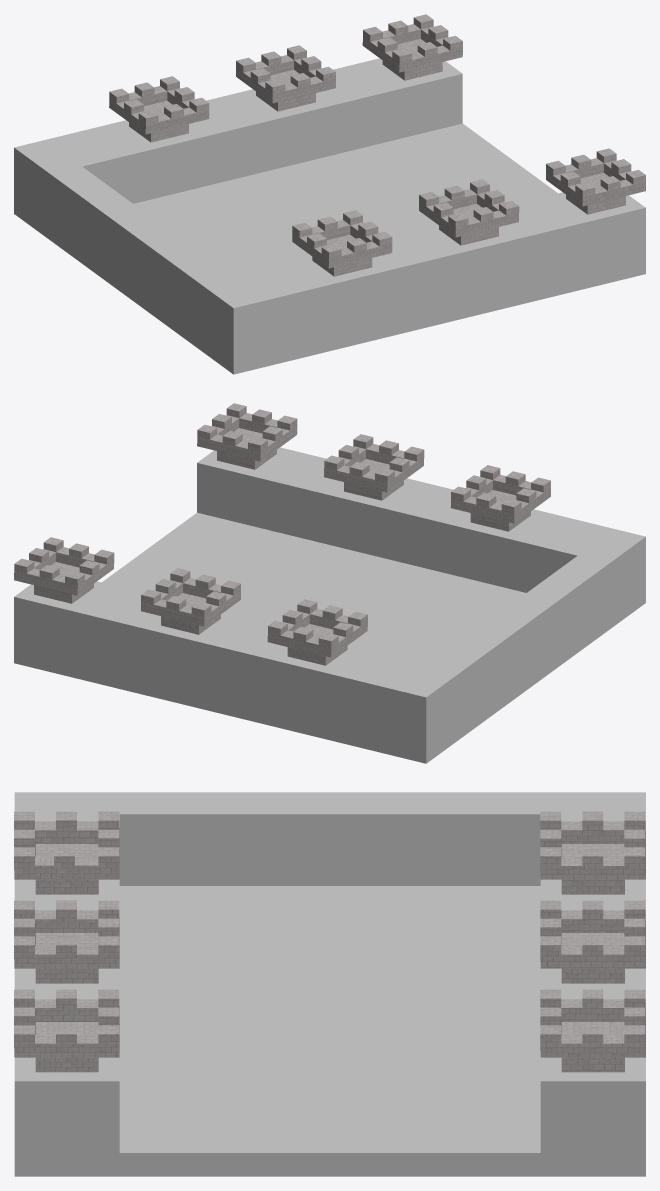
Rendered from Castle Trail Start(T).fbx.
The picture shows the model from 3 angles, top to bottom: view 1: azimuth 30°, elevation 25°; view 2: azimuth 150°, elevation 25°; view 3: azimuth 270°, elevation 25°; orthographic projection. The views are drawn at different scales.
Parts seen in each view (by area): view 1: Castle Trail Start; view 2: Castle Trail Start; view 3: Castle Trail Start.
Part boxes in pixels (<box>): Castle Trail Start: <box>14,14,645,374</box>; Castle Trail Start: <box>14,403,645,763</box>; Castle Trail Start: <box>14,792,645,1176</box>.
Bounding box in the file's own units: 1300 × 299 × 1201.
